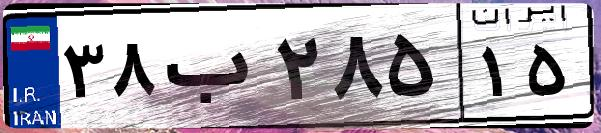1: (475, 38, 525, 113)
2: (270, 28, 330, 110)
3: (57, 26, 110, 100)
5: (385, 28, 445, 110), (525, 38, 570, 115)
8: (330, 28, 385, 110), (110, 28, 158, 98)
ب: (158, 20, 270, 120)
